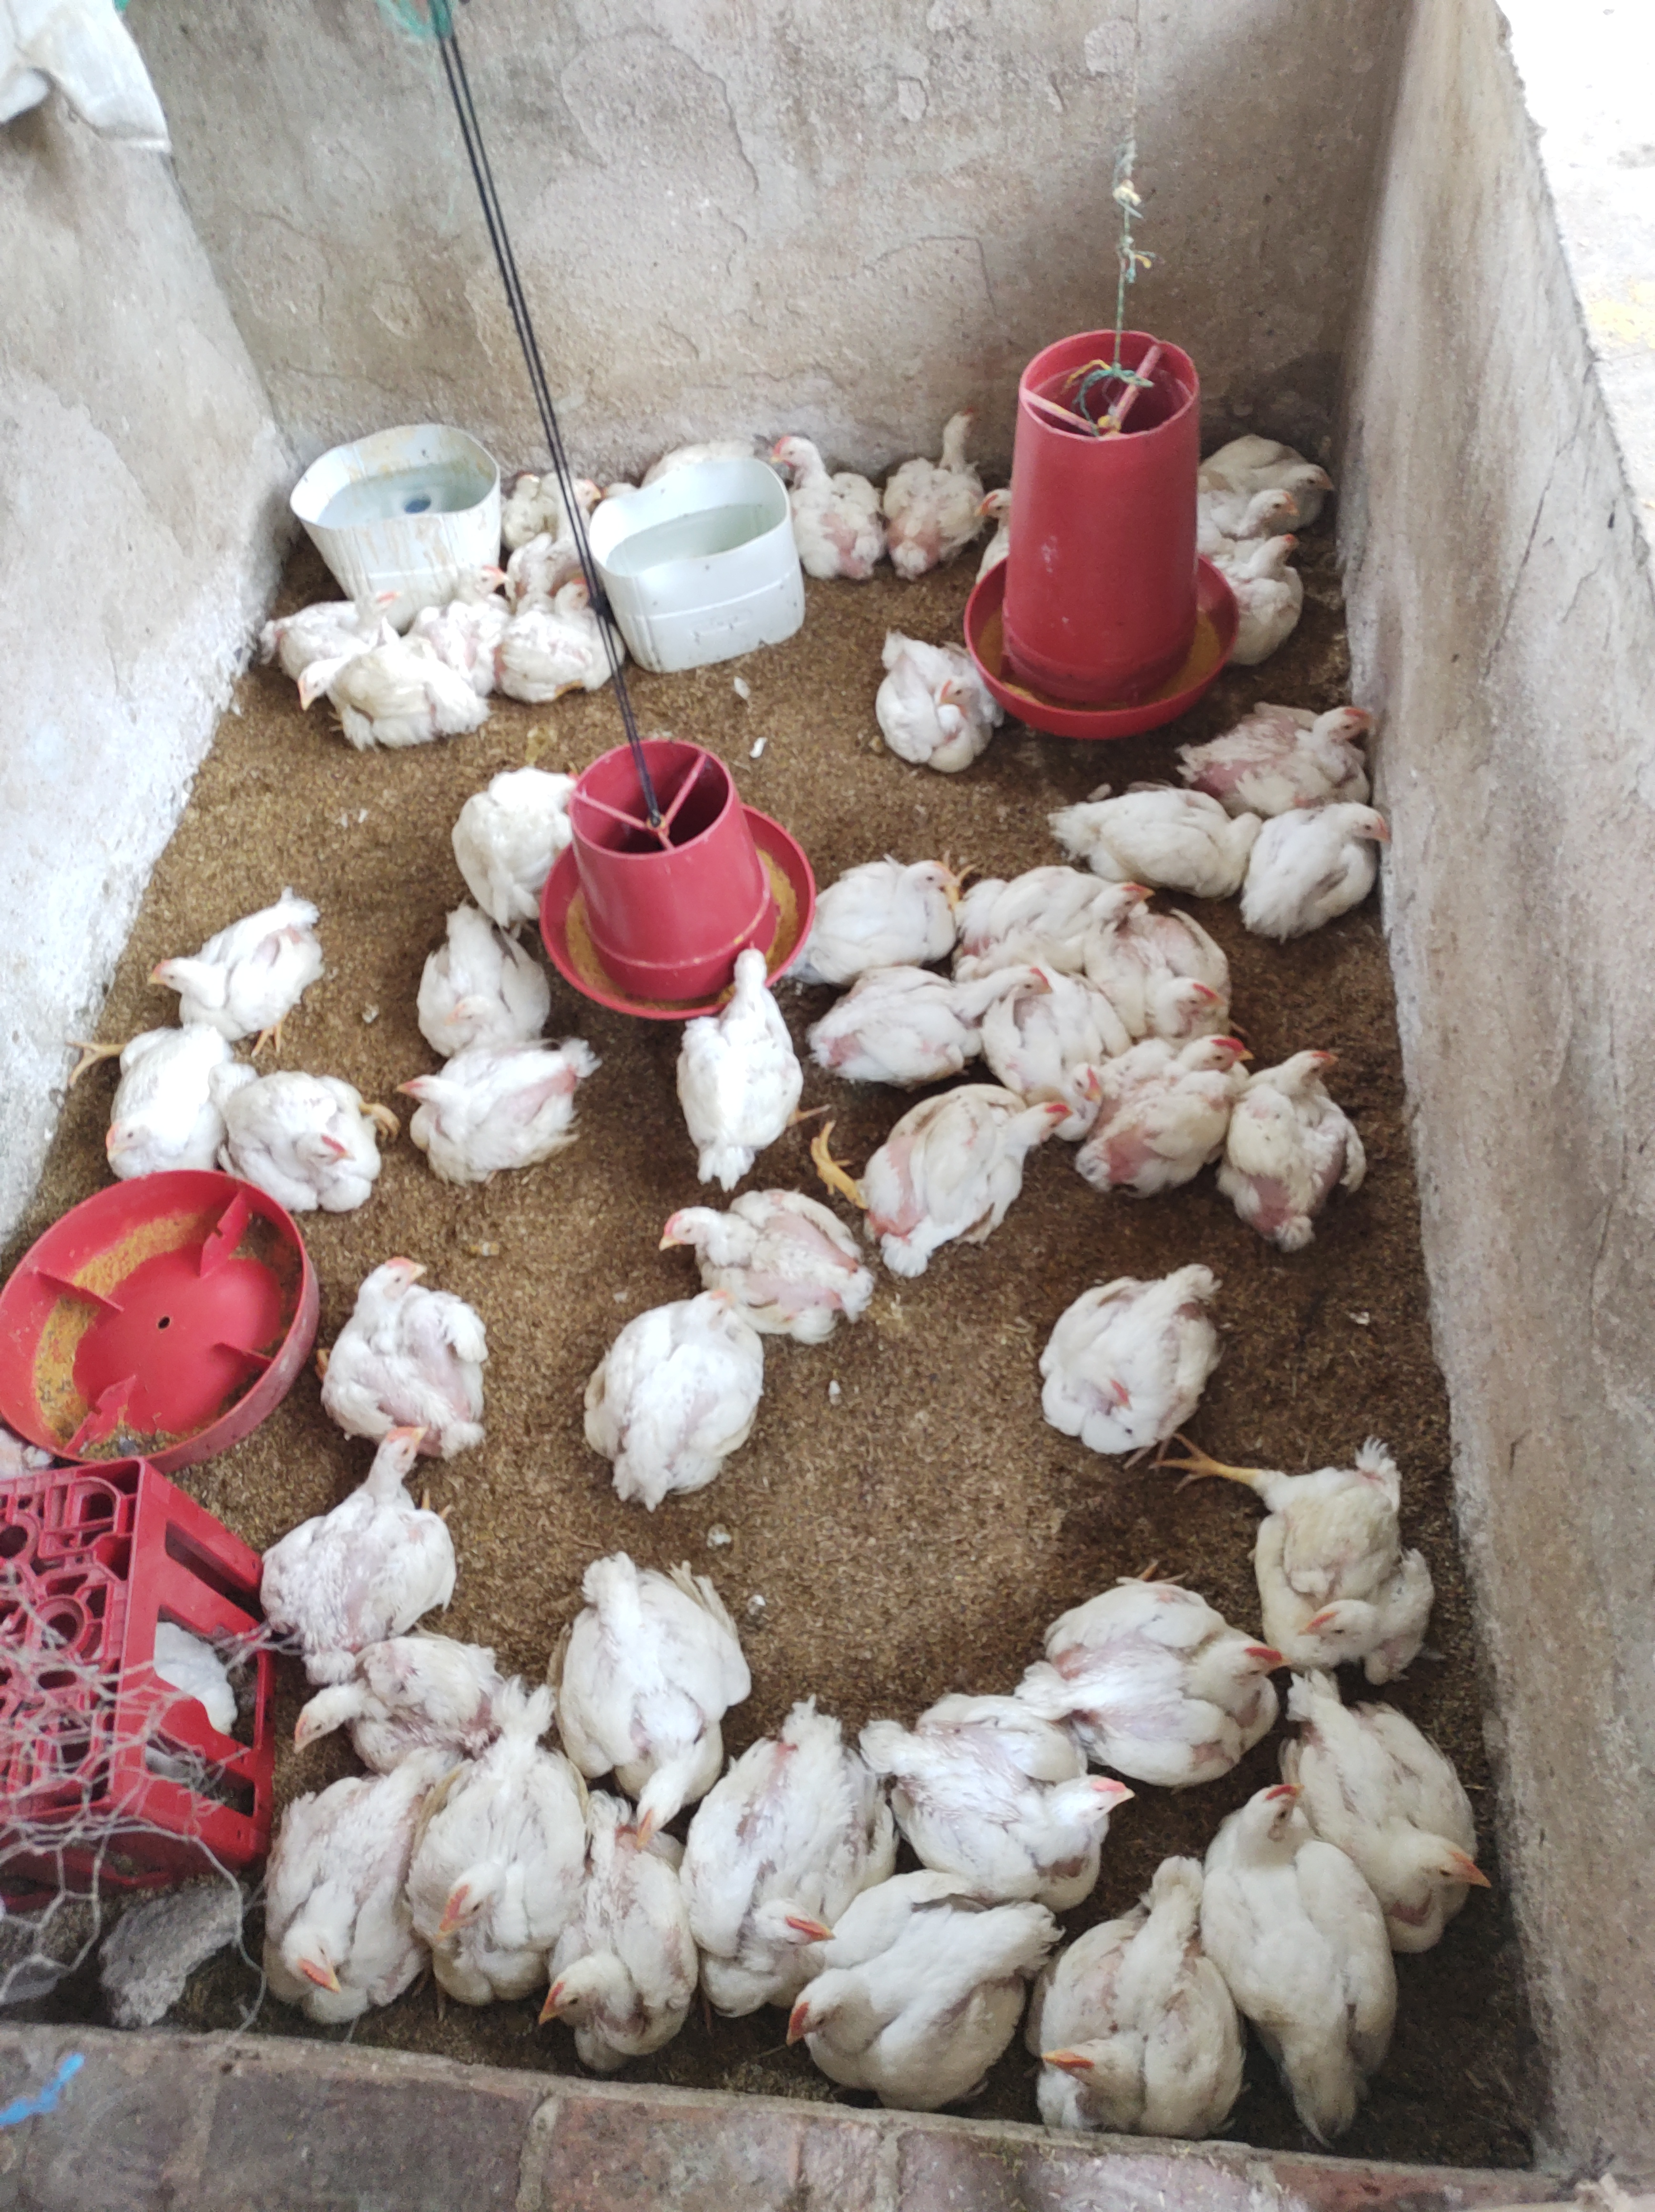Pollos: (1142, 1605, 1540, 2212), (304, 1581, 730, 1965), (377, 1854, 833, 2212), (648, 1509, 1041, 1911), (3, 1727, 386, 2139), (819, 1857, 1245, 2212), (901, 1353, 1318, 1692), (1278, 1188, 1618, 1542), (183, 1285, 494, 1664), (1396, 1537, 1655, 1927), (702, 750, 1036, 1023), (294, 989, 584, 1301), (949, 979, 1278, 1242), (429, 816, 746, 1087), (495, 523, 702, 836), (1293, 649, 1488, 979), (0, 960, 236, 1228), (141, 736, 445, 932), (0, 602, 144, 1003), (0, 1562, 221, 1809), (708, 525, 967, 736), (1248, 259, 1521, 456), (1015, 701, 1260, 916), (1318, 410, 1539, 602), (1267, 111, 1450, 339), (0, 1144, 120, 1450), (217, 602, 428, 753), (735, 137, 899, 313), (862, 313, 1022, 485), (275, 424, 421, 605), (885, 99, 1019, 289), (151, 297, 297, 423), (1090, 494, 1187, 623), (1187, 576, 1276, 701), (1200, 671, 1325, 746), (1408, 113, 1455, 167)
